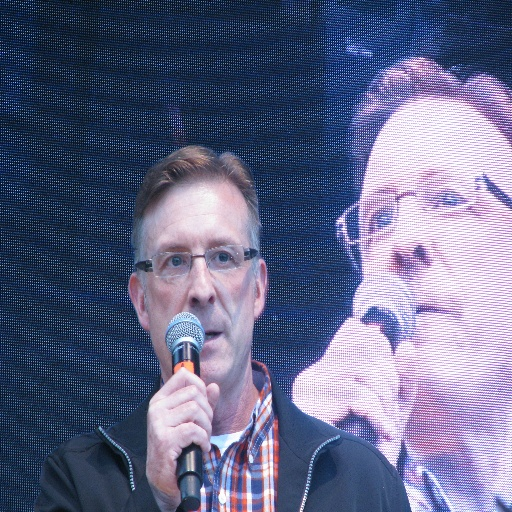hand: (291, 315, 418, 471), (141, 373, 216, 494)
